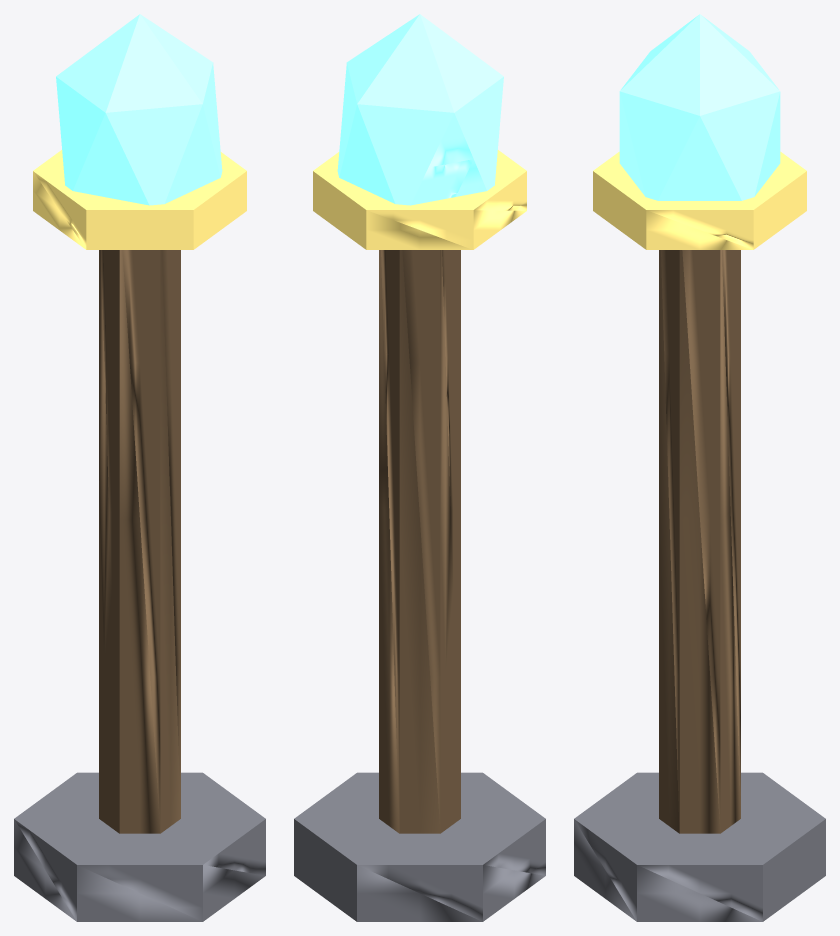
The model's file is totem.glb.
The picture shows the model from 3 angles, left to right: view 1: azimuth 30°, elevation 25°; view 2: azimuth 150°, elevation 25°; view 3: azimuth 270°, elevation 25°; orthographic projection.
Parts seen in each view (by area): view 1: TotemFoot; view 2: TotemFoot; view 3: TotemFoot.
Boxes of the visible parts, left/top/right/bottom form: TotemFoot: left=14, top=14, right=265, bottom=921; TotemFoot: left=294, top=14, right=545, bottom=921; TotemFoot: left=574, top=14, right=825, bottom=921.
Bounding box in the file's own units: 0.6928 × 3.02 × 0.8.
